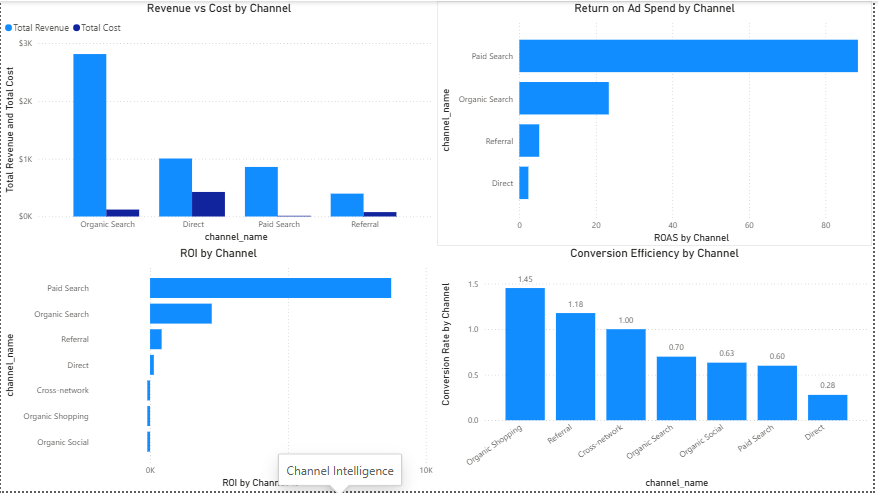

Layout of this report page (visuals, bound fields, positions):
{"tool":"powerbi","page":{"name":"Channel Intelligence","canvas":[1280,720],"ordinal":1},"visuals":[{"type":"clusteredColumnChart","title":"Revenue vs Cost by Channel","fields":{"Category":["dim_channel.channel_name"],"Y":["Measures (2).Total Revenue","Measures (2).Total Cost"]},"box":[0,0,640.7,360],"z":0},{"type":"barChart","title":"Return on Ad Spend by Channel","fields":{"Category":["dim_channel.channel_name"],"Y":["Measures (2).ROAS by Channel"]},"box":[640.7,0,639.2,360],"z":1000},{"type":"barChart","title":"ROI by Channel ","fields":{"Category":["dim_channel.channel_name"],"Y":["Measures (2).ROI by Channel %"]},"box":[0,360,639.2,360],"z":2000},{"type":"columnChart","title":"Conversion Efficiency by Channel","fields":{"Category":["dim_channel.channel_name"],"Y":["Measures (2).Conversion Rate by Channel"]},"box":[640.7,360,639.2,360],"z":3000}]}

Visuals, with their boxes in screenshot pixels (x1, y1, x2, y2), scaled from the page's 1280x720 canvas onto the 878x493 screenshot:
"Revenue vs Cost by Channel" clusteredColumnChart: <box>0,0,439,246</box>
"Return on Ad Spend by Channel" barChart: <box>439,0,877,246</box>
"ROI by Channel " barChart: <box>0,246,438,492</box>
"Conversion Efficiency by Channel" columnChart: <box>439,246,877,492</box>
